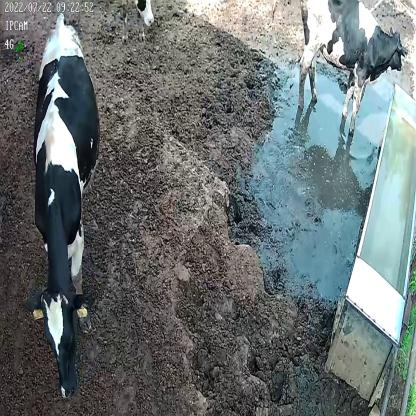cow: (31, 10, 103, 403), (296, 0, 407, 137)
